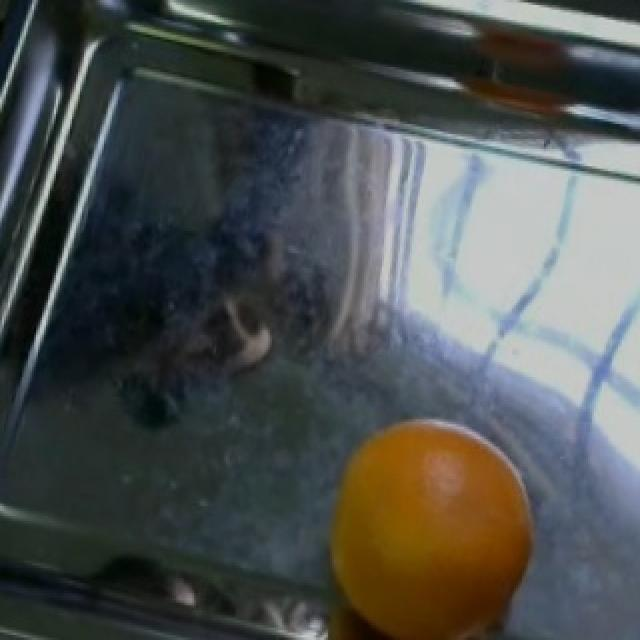Fruit: (308, 402, 558, 640)
